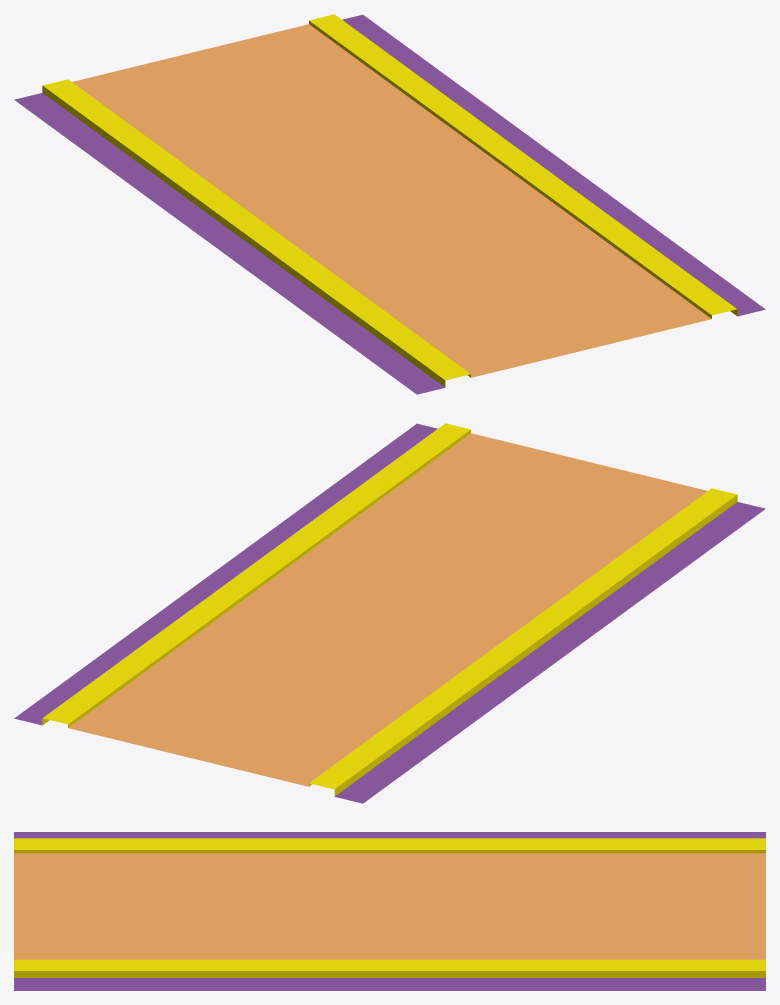
Rendered from roadStraightLong.glb.
3 renders of one model, top to bottom at view 1: azimuth 30°, elevation 25°; view 2: azimuth 150°, elevation 25°; view 3: azimuth 270°, elevation 25°, orthographic. The views are drawn at different scales.
Visible parts, largest first — view 1: roadStraightLong(Clone); view 2: roadStraightLong(Clone); view 3: roadStraightLong(Clone).
Part boxes in pixels (x1=…): roadStraightLong(Clone): x1=14, y1=14, x2=765, y2=394; roadStraightLong(Clone): x1=14, y1=423, x2=765, y2=803; roadStraightLong(Clone): x1=14, y1=832, x2=765, y2=990.
Size of the model in its own units: 1 by 0.02 by 2.
